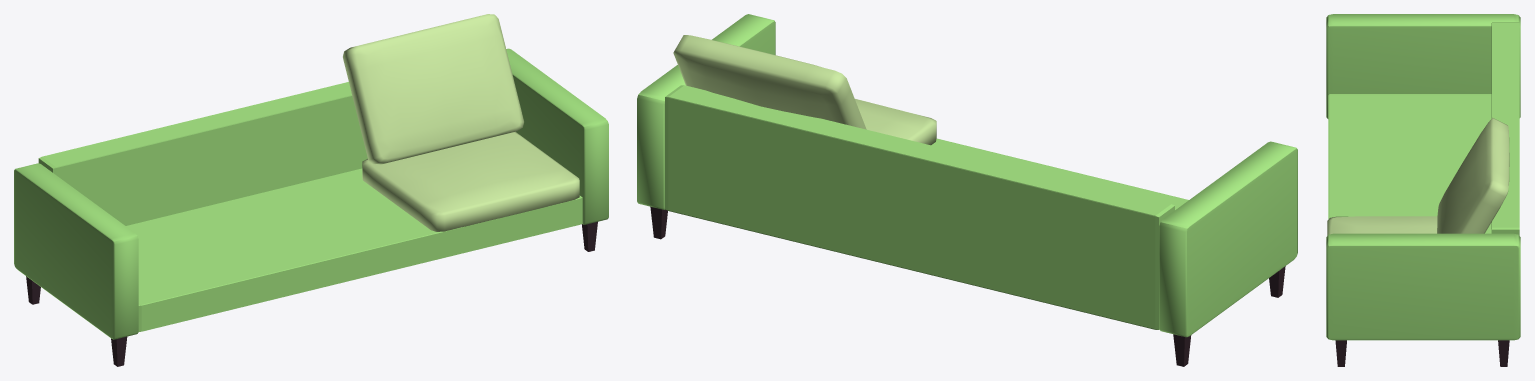
The model's file is Sofa.fbx.
3 views of the same model, side by side, from view 1: azimuth 30°, elevation 25°; view 2: azimuth 150°, elevation 25°; view 3: azimuth 270°, elevation 25° (orthographic). The views are drawn at different scales.
Parts seen in each view (by area): view 1: SOfa, SofaPillows; view 2: SOfa, SofaPillows; view 3: SOfa, SofaPillows.
Boxes of the visible parts, bbox=[...] form: SOfa: bbox=[14, 48, 608, 366]; SofaPillows: bbox=[343, 14, 579, 231]; SOfa: bbox=[637, 14, 1297, 366]; SofaPillows: bbox=[673, 35, 936, 145]; SOfa: bbox=[1326, 14, 1520, 366]; SofaPillows: bbox=[1327, 117, 1509, 235].
Size of the model in its own units: 253 by 89.5 by 89.84.
